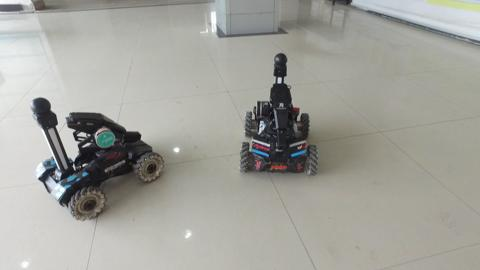chariot: (24, 96, 166, 218), (230, 51, 319, 179)
